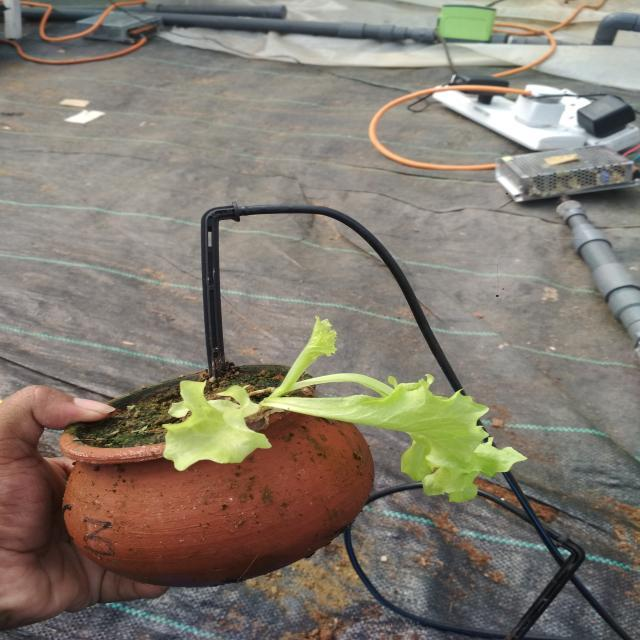Lettuce-Not-Ready-to-Harvest: (160, 318, 521, 512)
